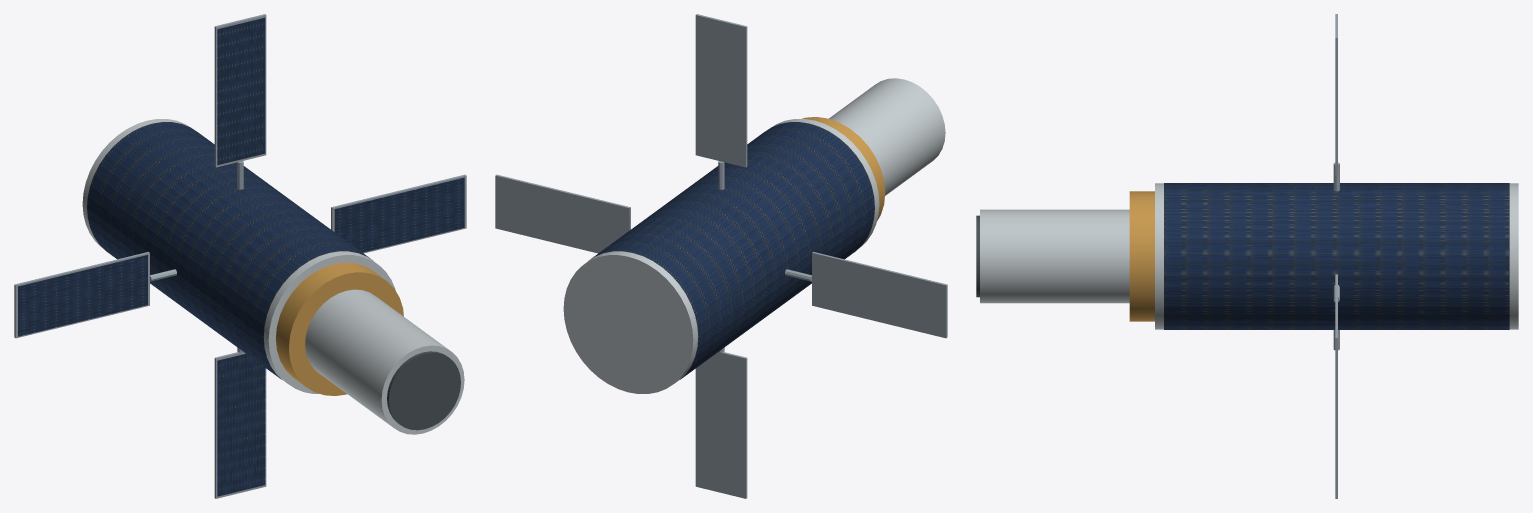
The model's file is ref-dsp-b14-20066.glb.
3 views of the same model, side by side, from view 1: azimuth 30°, elevation 25°; view 2: azimuth 150°, elevation 25°; view 3: azimuth 270°, elevation 25° (orthographic). The views are drawn at different scales.
Parts seen in each view (by area): view 1: Body-mounted solar cells, Solar cell panel (×4), Optical instrument housing, Despun equipment deck, Telescope aperture, Radial paddle frame (×4), Solar drum core; view 2: Body-mounted solar cells, Radial paddle frame (×4), Solar drum core, Optical instrument housing, Despun equipment deck; view 3: Body-mounted solar cells, Optical instrument housing, Despun equipment deck, Solar drum core.
Part boxes in pixels (x1=…): Body-mounted solar cells: x1=87, y1=122, x2=373, y2=379; Solar cell panel (×4): x1=18, y1=17, x2=464, y2=496; Optical instrument housing: x1=305, y1=289, x2=464, y2=434; Despun equipment deck: x1=276, y1=262, x2=403, y2=395; Telescope aperture: x1=387, y1=351, x2=460, y2=430; Radial paddle frame (×4): x1=14, y1=14, x2=466, y2=498; Solar drum core: x1=82, y1=119, x2=395, y2=393; Body-mounted solar cells: x1=588, y1=122, x2=874, y2=379; Radial paddle frame (×4): x1=495, y1=14, x2=947, y2=498; Solar drum core: x1=563, y1=119, x2=879, y2=393; Optical instrument housing: x1=829, y1=78, x2=945, y2=195; Despun equipment deck: x1=802, y1=117, x2=885, y2=220; Body-mounted solar cells: x1=1164, y1=183, x2=1509, y2=329; Optical instrument housing: x1=980, y1=209, x2=1129, y2=303; Despun equipment deck: x1=1129, y1=191, x2=1154, y2=321; Solar drum core: x1=1155, y1=183, x2=1518, y2=329.
Size of the model in its own units: 11.47 by 11.47 by 12.23.
5 materials, 1 textured.
